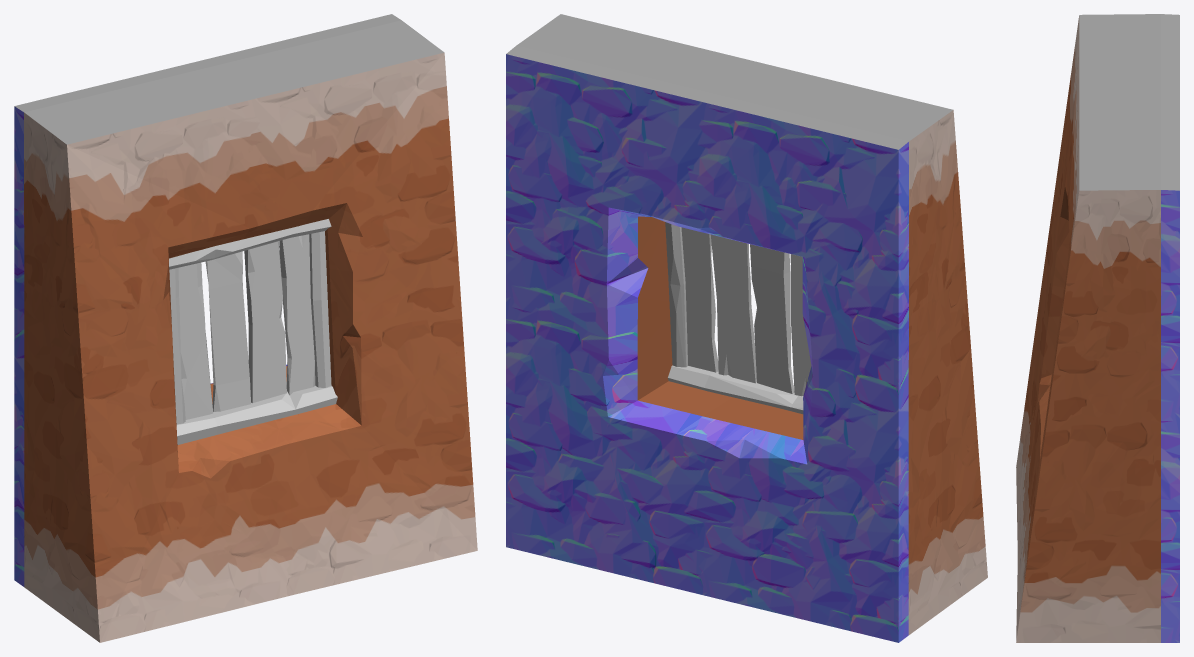
File: SM_Bld_Wall_Ground_Window_01.fbx
3 views of the same model, side by side, from view 1: azimuth 30°, elevation 25°; view 2: azimuth 150°, elevation 25°; view 3: azimuth 270°, elevation 25° (orthographic). The views are drawn at different scales.
Visible parts, largest first — view 1: SM_Bld_Wall_Ground_Window_01; view 2: SM_Bld_Wall_Ground_Window_01; view 3: SM_Bld_Wall_Ground_Window_01.
Part boxes in pixels (x1,y1,x2,y2): SM_Bld_Wall_Ground_Window_01: [14, 14, 477, 642]; SM_Bld_Wall_Ground_Window_01: [506, 14, 987, 642]; SM_Bld_Wall_Ground_Window_01: [1016, 14, 1179, 642].
Size of the model in its own units: 250 by 301 by 98.39.
